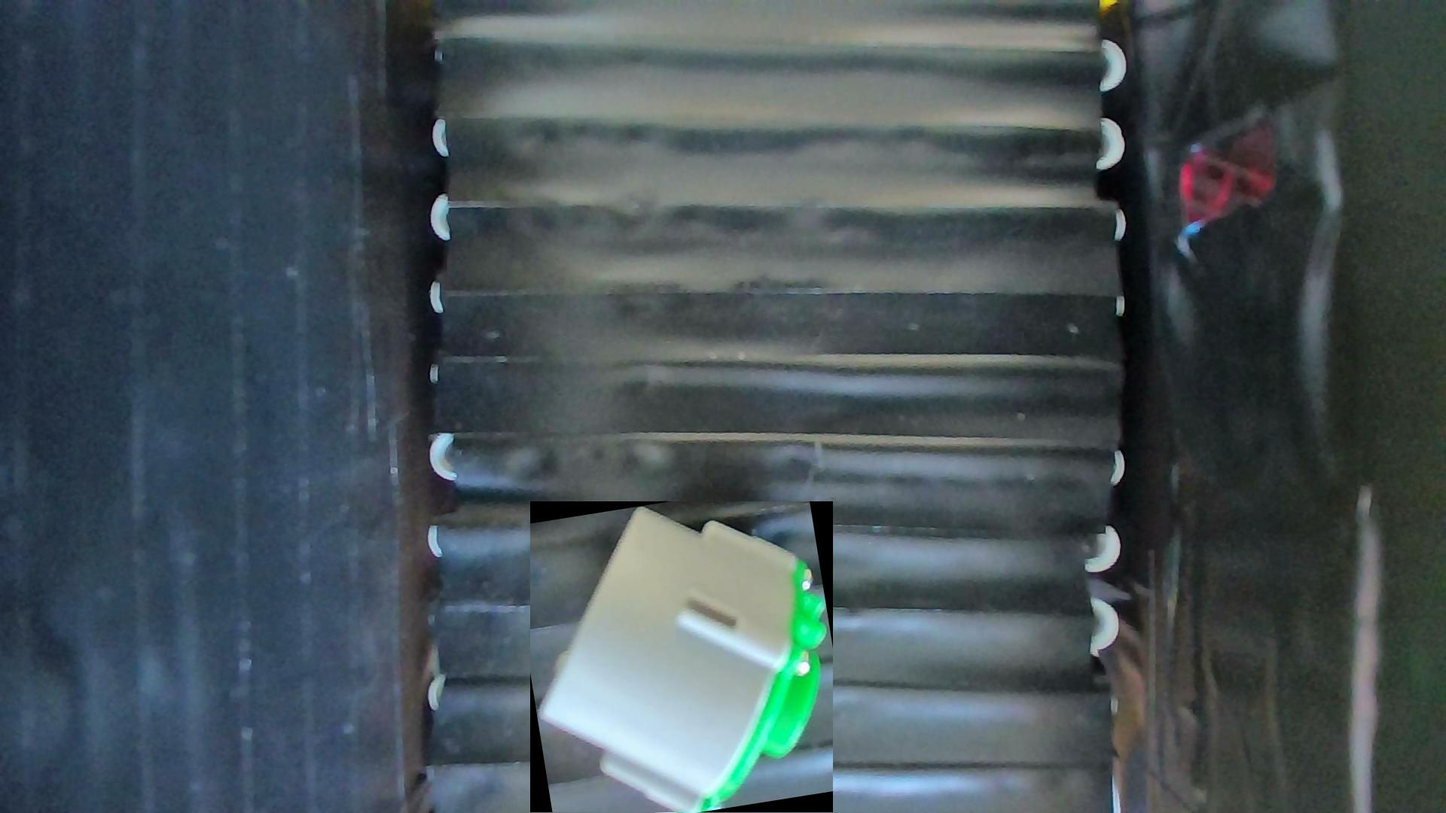cartridge: (530, 501, 833, 813)
